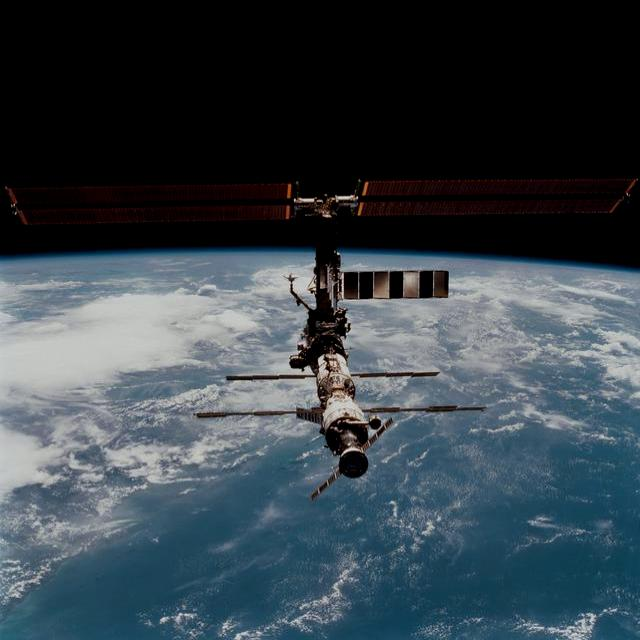medium_debris: (8, 180, 636, 498)
